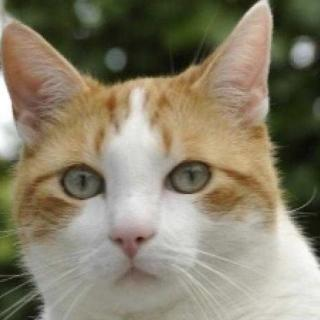cat: (0, 5, 283, 320)
nose: (100, 195, 165, 262)
